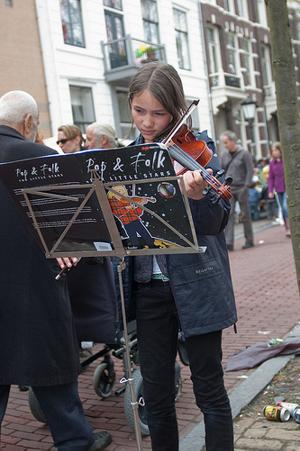person: (58, 63, 236, 450)
